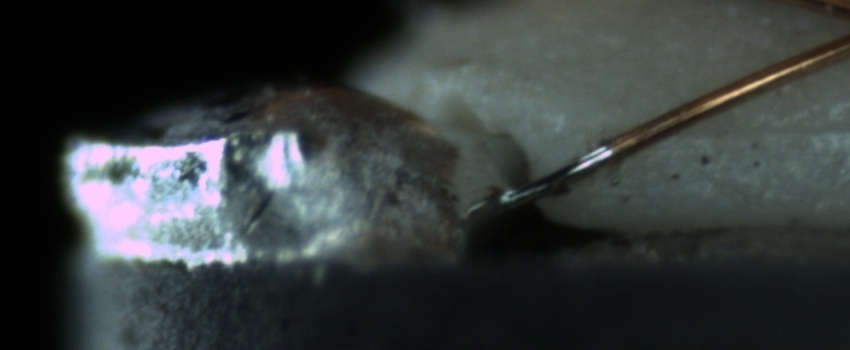DL: (686, 97, 850, 160)
TS: (486, 144, 619, 214)
